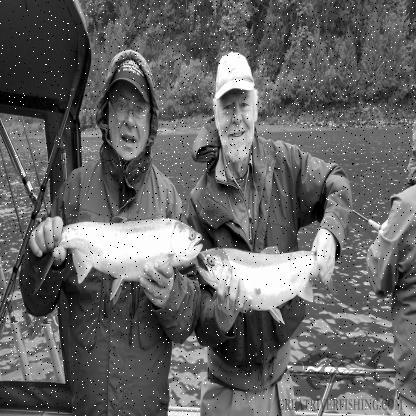fish: (31, 218, 204, 306), (199, 244, 335, 326)
